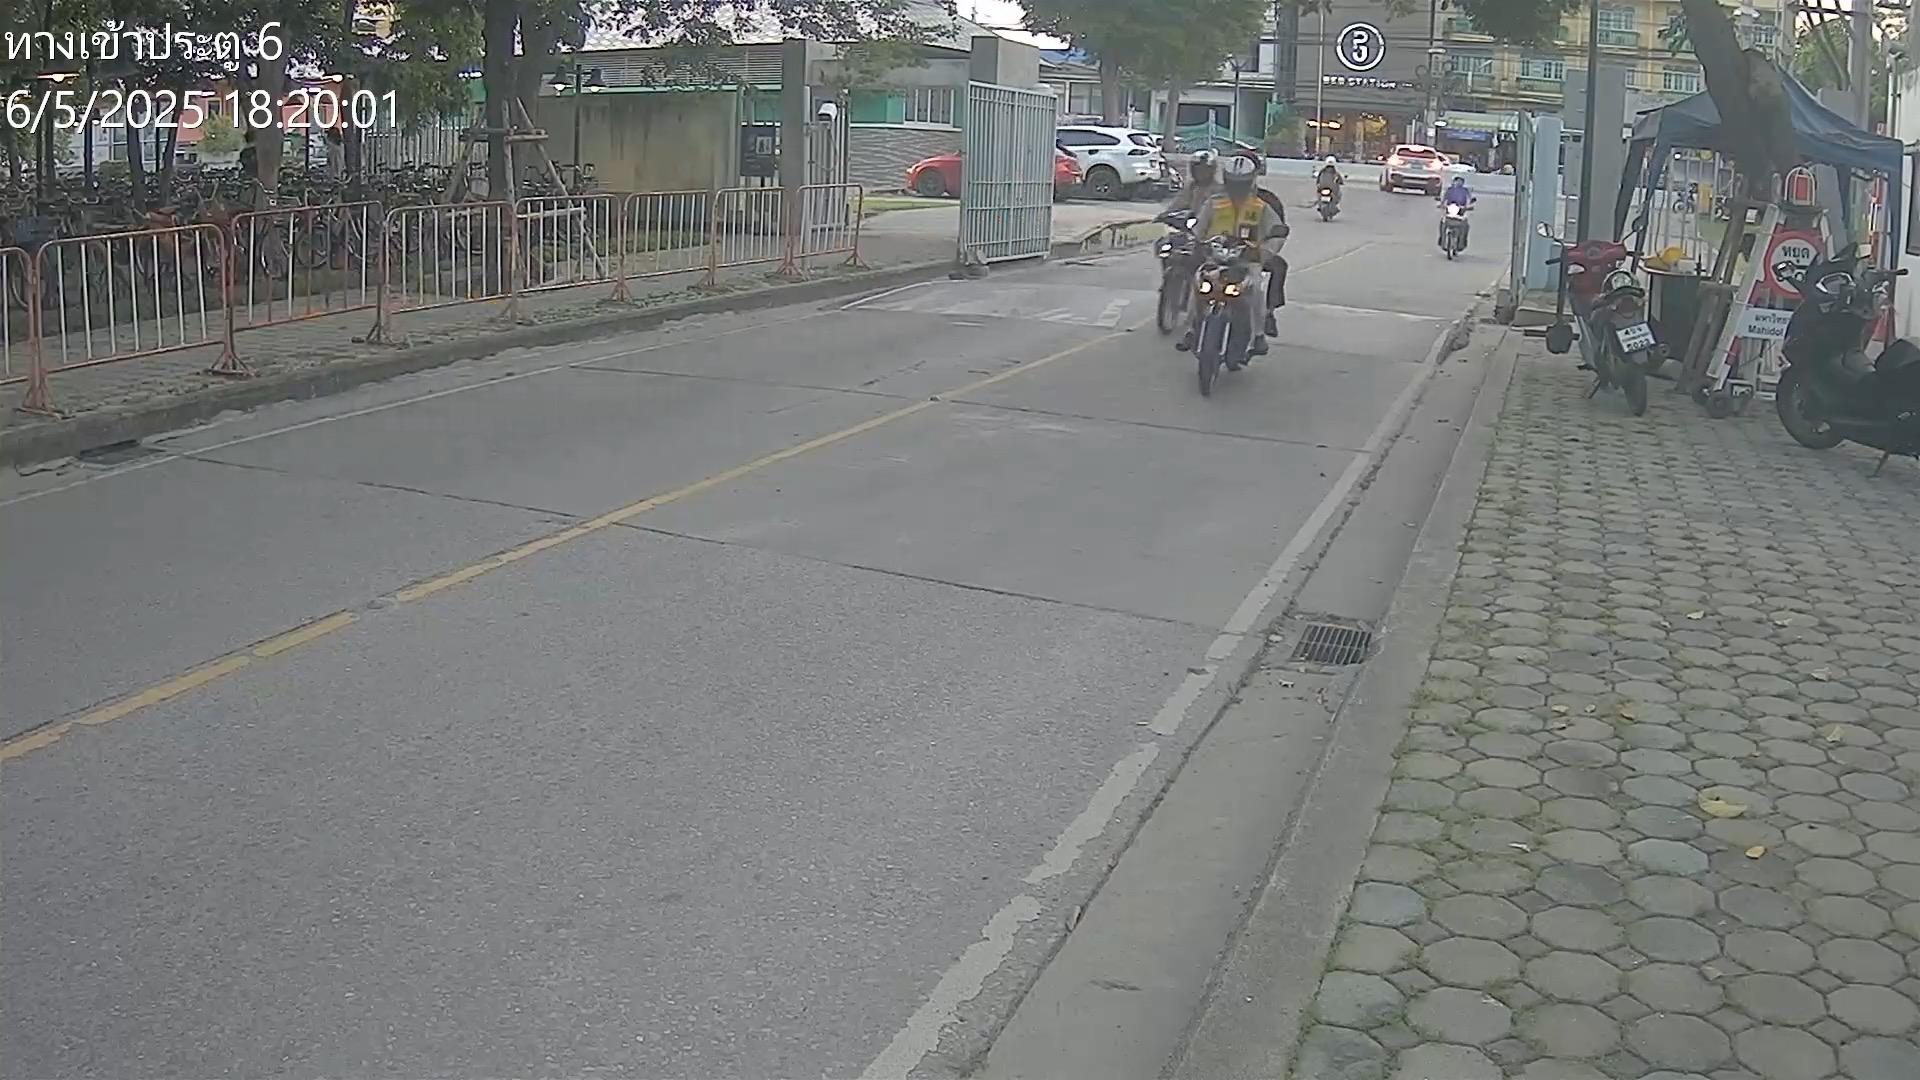With-Helmet: (1224, 154, 1257, 195), (1189, 149, 1217, 181), (1327, 156, 1337, 167)
